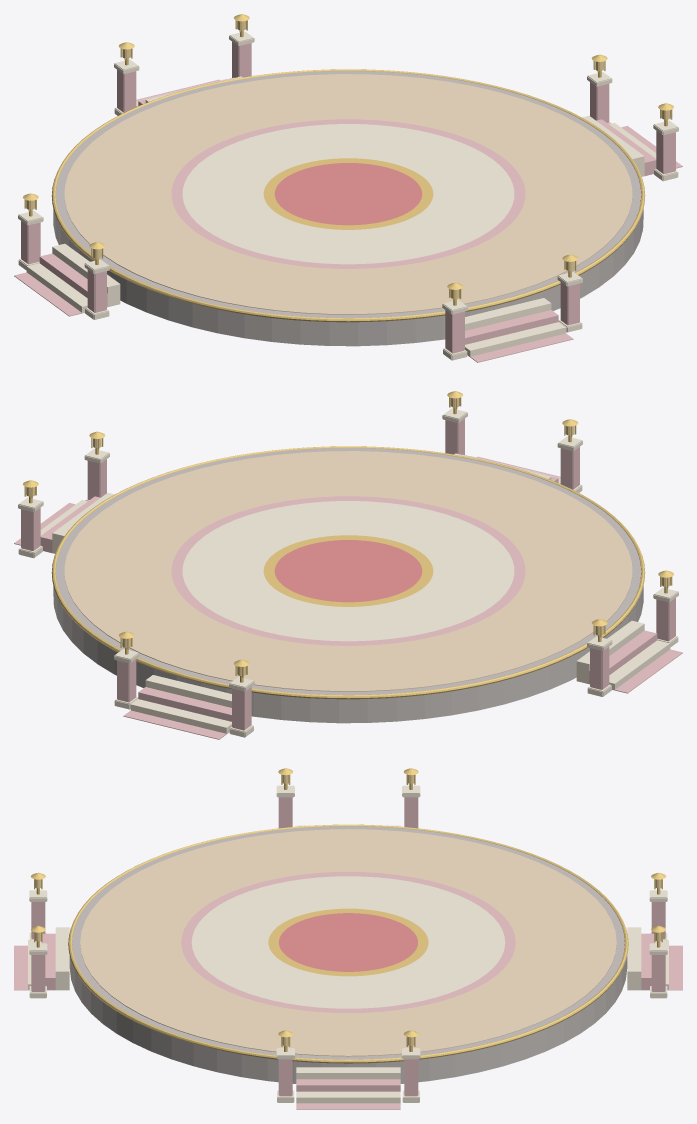
File: HOB_RoundPlaza.fbx
3 views of the same model, one above another, from view 1: azimuth 30°, elevation 25°; view 2: azimuth 150°, elevation 25°; view 3: azimuth 270°, elevation 25° (orthographic). The views are drawn at different scales.
Visible parts, largest first — view 1: HOB_RoundPlaza; view 2: HOB_RoundPlaza; view 3: HOB_RoundPlaza.
Boxes of the visible parts, bbox=[...] form: HOB_RoundPlaza: bbox=[14, 14, 682, 362]; HOB_RoundPlaza: bbox=[14, 391, 682, 739]; HOB_RoundPlaza: bbox=[14, 768, 682, 1109].
Size of the model in its own units: 1920 by 217 by 1920.
